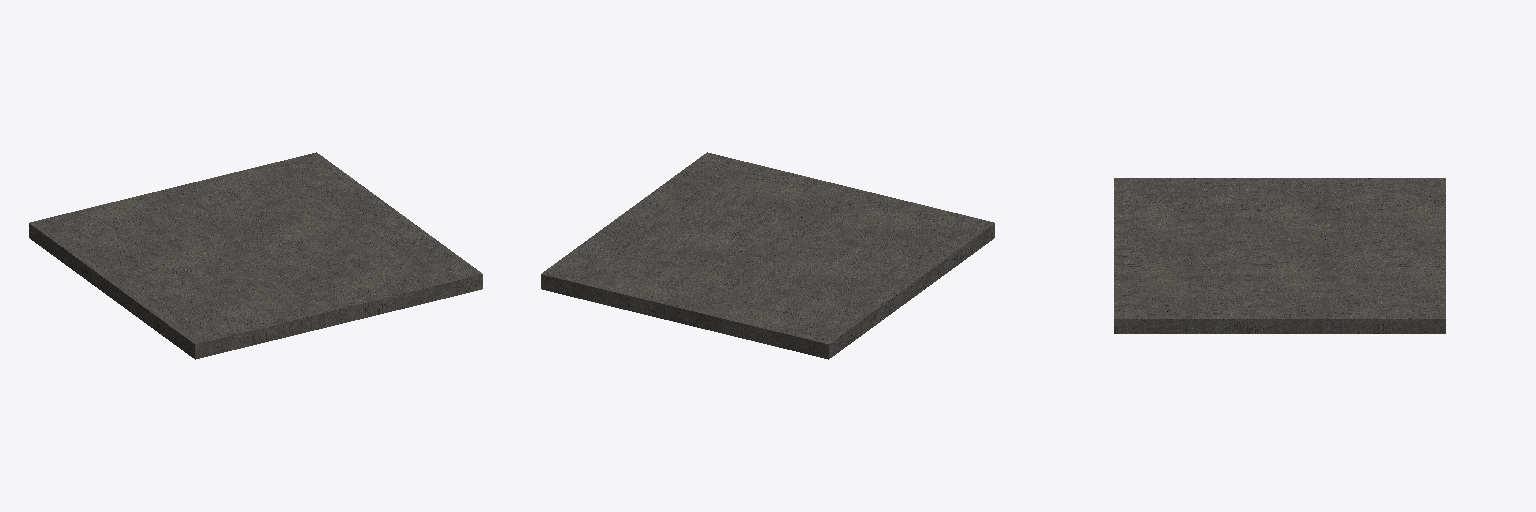
3 renders of one model, left to right at view 1: azimuth 30°, elevation 25°; view 2: azimuth 150°, elevation 25°; view 3: azimuth 270°, elevation 25°, orthographic.
Visible parts, largest first — view 1: Cnncrete; view 2: Cnncrete; view 3: Cnncrete.
Boxes of the visible parts, box(x1,y1,x2,y2) form: Cnncrete: box(29, 152, 482, 359); Cnncrete: box(541, 152, 994, 359); Cnncrete: box(1114, 178, 1445, 333).
Size of the model in its own units: 19.68 by 0.9843 by 19.68.
Materials: 1 (1 with a texture image).